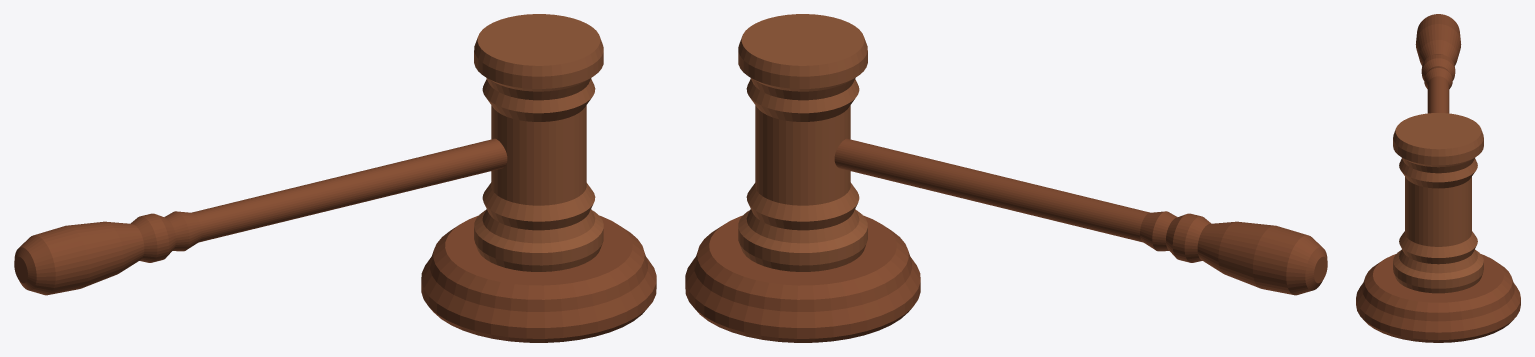
The model's file is A-NEW-20261026-GAVEL-BLOCK-001_LOD1_R1.fbx.
The picture shows the model from 3 angles, left to right: view 1: azimuth 30°, elevation 25°; view 2: azimuth 150°, elevation 25°; view 3: azimuth 270°, elevation 25°; orthographic projection. The views are drawn at different scales.
Visible parts, largest first — view 1: barrel gavel head, turned handle, turned strike block; view 2: barrel gavel head, turned handle, turned strike block; view 3: barrel gavel head, turned strike block, turned handle.
Part boxes in pixels (x1,y1,x2,y2): barrel gavel head: [474, 14, 603, 271]; turned handle: [14, 138, 507, 295]; turned strike block: [421, 215, 656, 342]; barrel gavel head: [738, 14, 867, 271]; turned handle: [834, 138, 1327, 295]; turned strike block: [685, 215, 920, 342]; barrel gavel head: [1393, 113, 1483, 293]; turned strike block: [1356, 254, 1520, 342]; turned handle: [1415, 14, 1461, 113].
Bounding box in the file's own units: 41.9 × 16.5 × 13.8.
